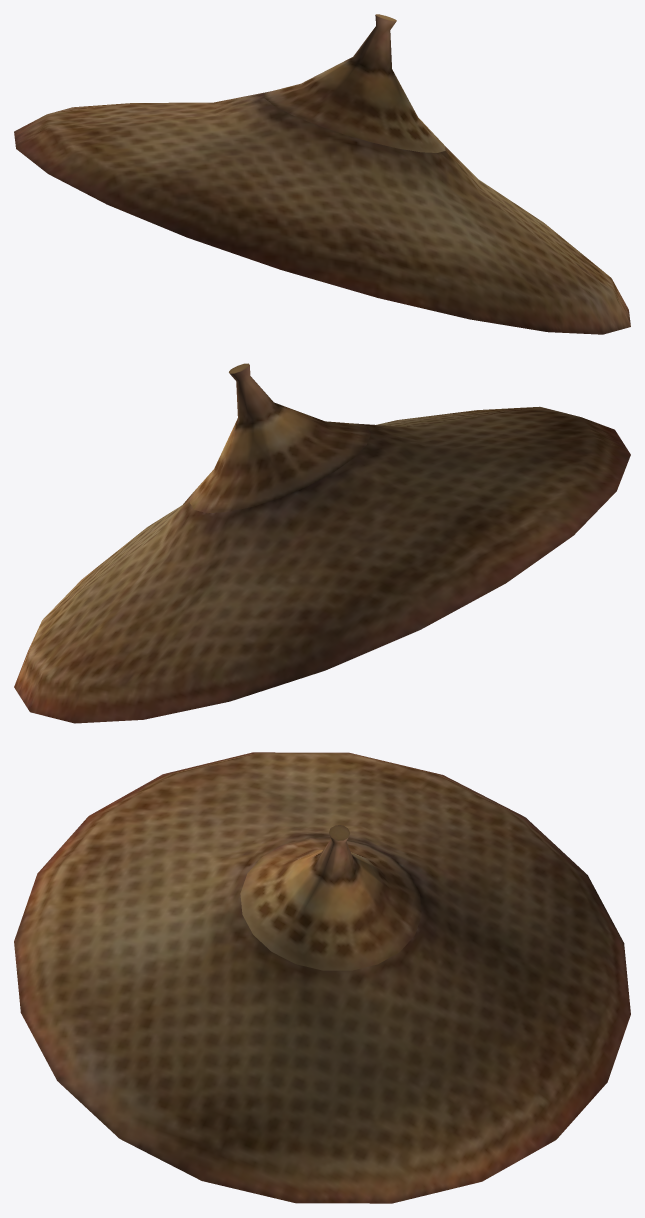
The model's file is hat.obj.
3 renders of one model, top to bottom at view 1: azimuth 30°, elevation 25°; view 2: azimuth 150°, elevation 25°; view 3: azimuth 270°, elevation 25°, orthographic. The views are drawn at different scales.
Visible parts, largest first — view 1: dynamic; view 2: dynamic; view 3: dynamic.
Boxes of the visible parts, x1,y1,x2,y2 form: dynamic: (14,14,630,334); dynamic: (14,363,630,723); dynamic: (14,752,630,1203).
Size of the model in its own units: 39.85 by 22.22 by 42.75.
1 material, 1 textured.
